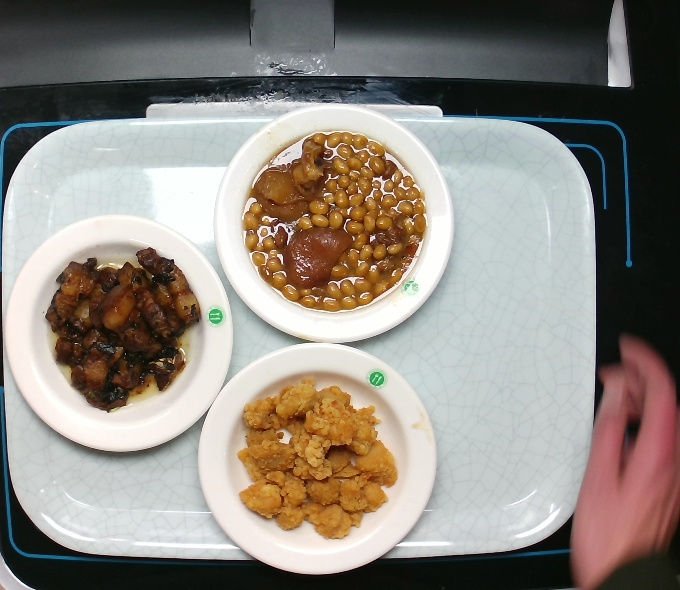wcq-GanCaiRou: (44, 247, 202, 412)
wcq-HuangDouZhuJiao: (241, 130, 428, 314)
wcq-JiMiHua: (235, 378, 400, 542)
